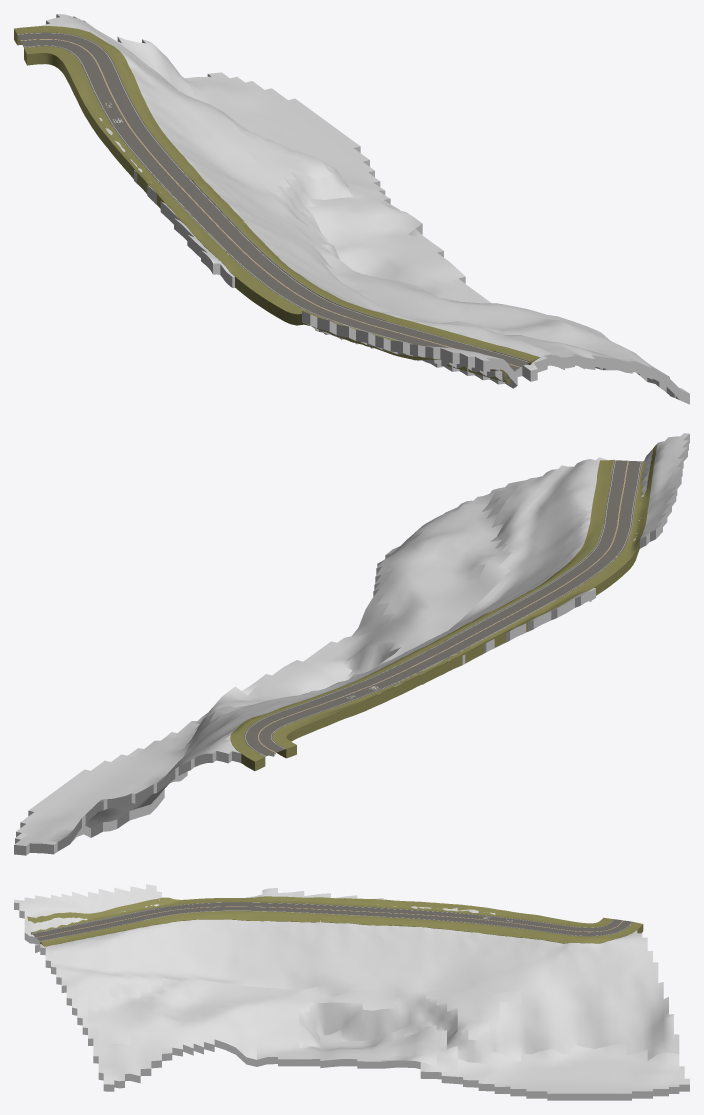
The model's file is conz_79.glb.
The picture shows the model from 3 angles, top to bottom: view 1: azimuth 30°, elevation 25°; view 2: azimuth 150°, elevation 25°; view 3: azimuth 270°, elevation 25°; orthographic projection. The views are drawn at different scales.
Visible parts, largest first — view 1: terrain79, road79, verge79R, verge79L, paint_white79, paint_yellow79; view 2: terrain79, road79, verge79R, verge79L, paint_white79, paint_yellow79; view 3: terrain79, road79, verge79L, verge79R, paint_white79, paint_yellow79.
Boxes of the visible parts, bbox=[...] form: terrain79: bbox=[39, 14, 689, 404]; road79: bbox=[17, 32, 529, 370]; verge79R: bbox=[24, 46, 510, 384]; verge79L: bbox=[14, 26, 540, 364]; paint_white79: bbox=[18, 33, 528, 362]; paint_yellow79: bbox=[21, 39, 520, 367]; terrain79: bbox=[14, 433, 689, 855]; road79: bbox=[244, 460, 642, 756]; verge79R: bbox=[272, 445, 656, 758]; verge79L: bbox=[230, 459, 613, 770]; paint_white79: bbox=[245, 460, 641, 755]; paint_yellow79: bbox=[258, 460, 628, 752]; terrain79: bbox=[14, 884, 689, 1100]; road79: bbox=[32, 902, 632, 941]; verge79L: bbox=[40, 911, 643, 946]; verge79R: bbox=[27, 896, 612, 934]; paint_white79: bbox=[32, 902, 631, 941]; paint_yellow79: bbox=[36, 906, 623, 937].
Size of the model in its own units: 104 by 45.83 by 256.
